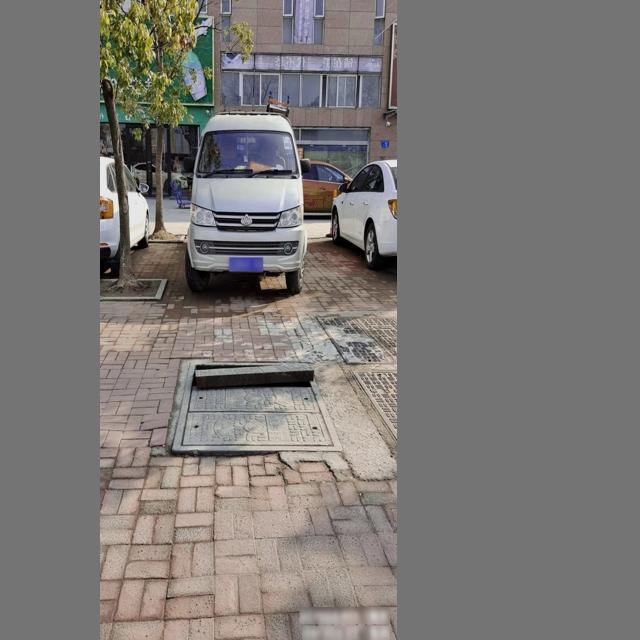uncovered: (166, 358, 343, 453)
